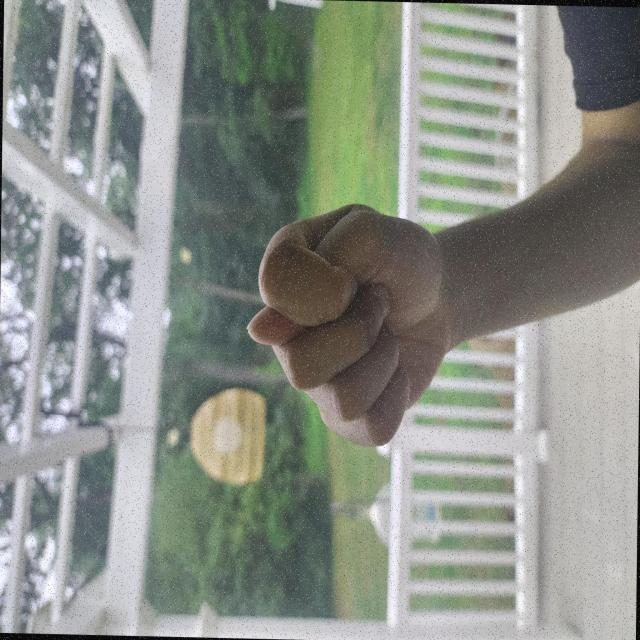T: (140, 317, 332, 608)
